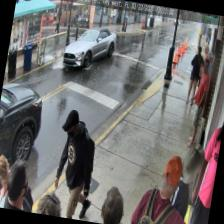person: (129, 149, 217, 224), (48, 108, 105, 221), (185, 109, 224, 224), (163, 139, 207, 224), (183, 57, 212, 149), (3, 157, 39, 212), (194, 50, 215, 119), (184, 46, 206, 105), (99, 184, 127, 224), (192, 44, 210, 102), (36, 189, 66, 217), (0, 153, 15, 208)
